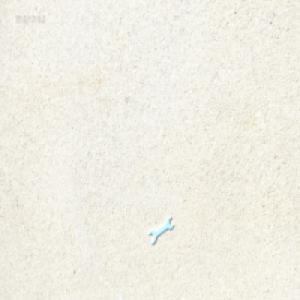Wrench: (148, 217, 173, 246)
